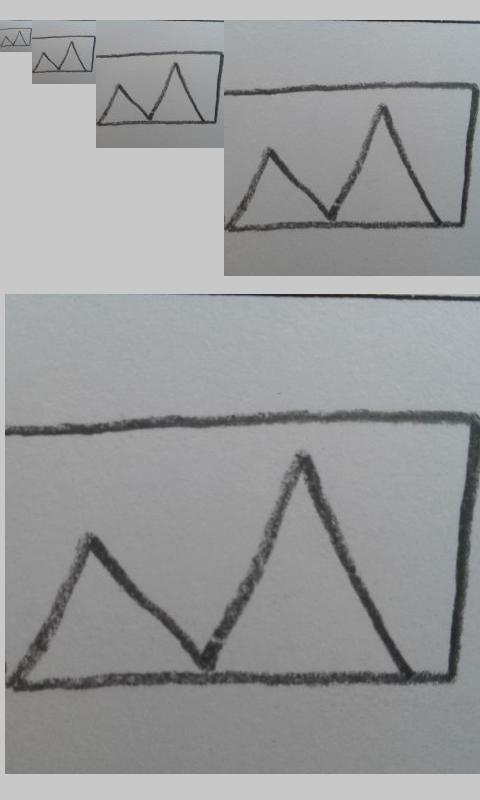image_view: (2, 408, 480, 694), (223, 80, 479, 234), (96, 49, 223, 126), (32, 35, 95, 74), (1, 27, 31, 47)
